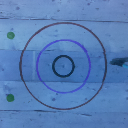Axe Tip: (114, 59, 128, 62)
